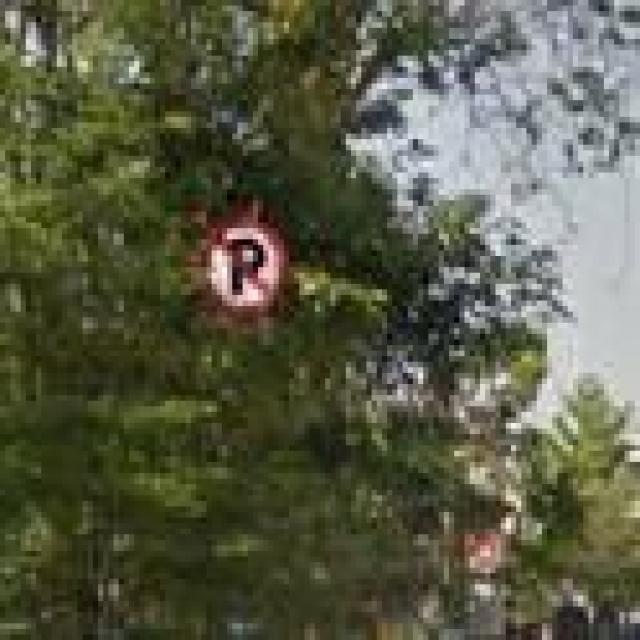traffic sign: (196, 217, 284, 312)
